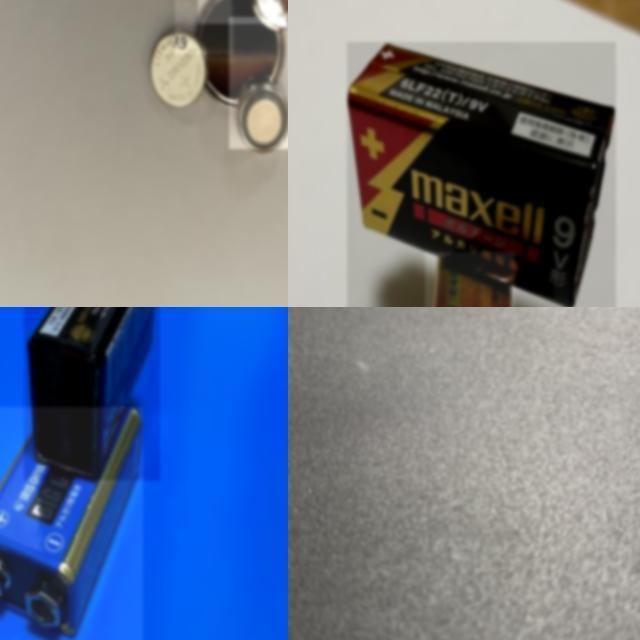9V: (347, 42, 616, 307), (0, 407, 143, 640), (24, 307, 160, 481), (425, 252, 515, 307)
